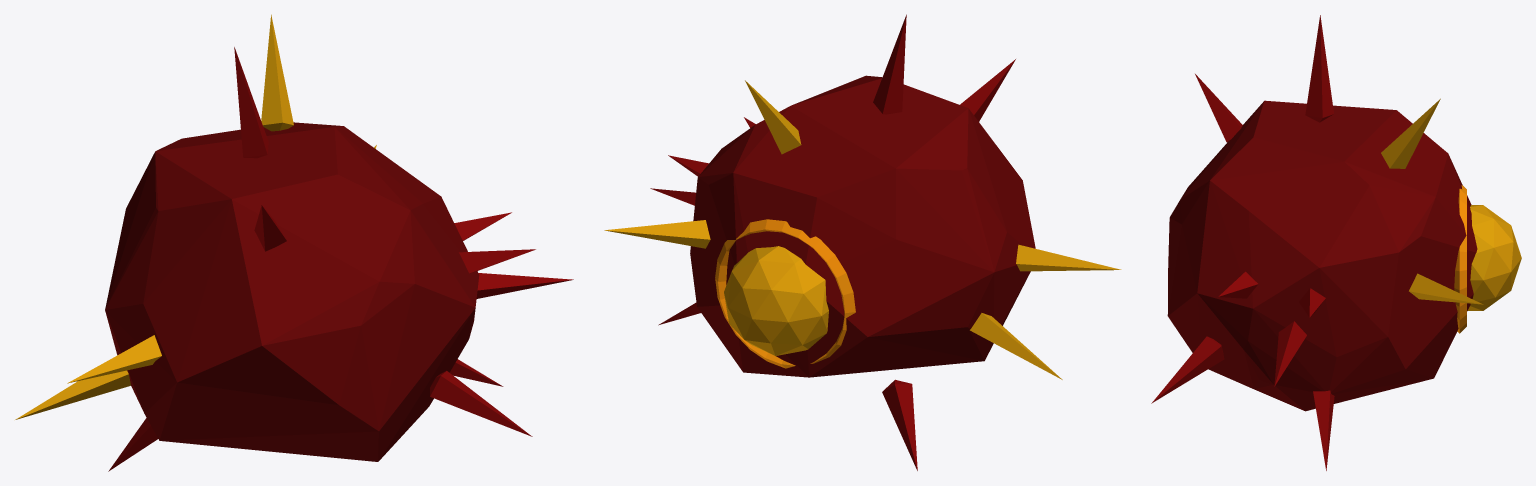
The model's file is conductor_core.glb.
The picture shows the model from 3 angles, left to right: view 1: azimuth 30°, elevation 25°; view 2: azimuth 150°, elevation 25°; view 3: azimuth 270°, elevation 25°; orthographic projection. The views are drawn at different scales.
Visible parts, largest first — view 1: conductor_core; view 2: conductor_core; view 3: conductor_core.
Boxes of the visible parts, left/top/right/bottom form: conductor_core: left=15, top=14, right=573, bottom=471; conductor_core: left=604, top=14, right=1121, bottom=470; conductor_core: left=1151, top=15, right=1521, bottom=470.
Size of the model in its own units: 30.71 by 25.58 by 22.65.
